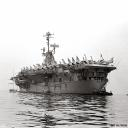Portanaves: (12, 29, 118, 99)
